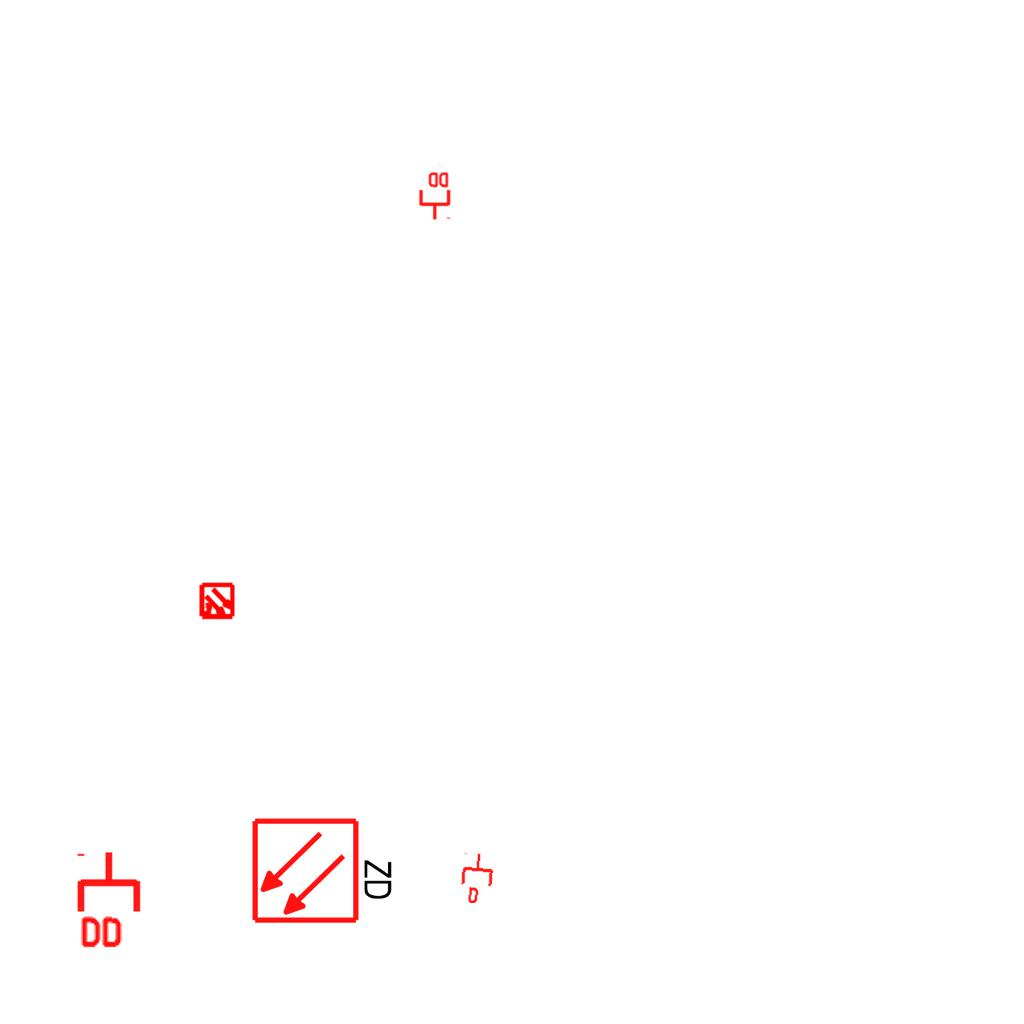Datenanschluss_einfach: (457, 851, 497, 905)
Datenanschluss_zweifach: (76, 849, 145, 952), (417, 170, 451, 221)
OT_Multisensormelder_(Kombination_RMO_WMD): (189, 574, 245, 630)
ZD_Melder_in_Zwischendecke_mit_Revisionsoeffnung_mind_40_x_40_cm: (250, 812, 399, 926)
